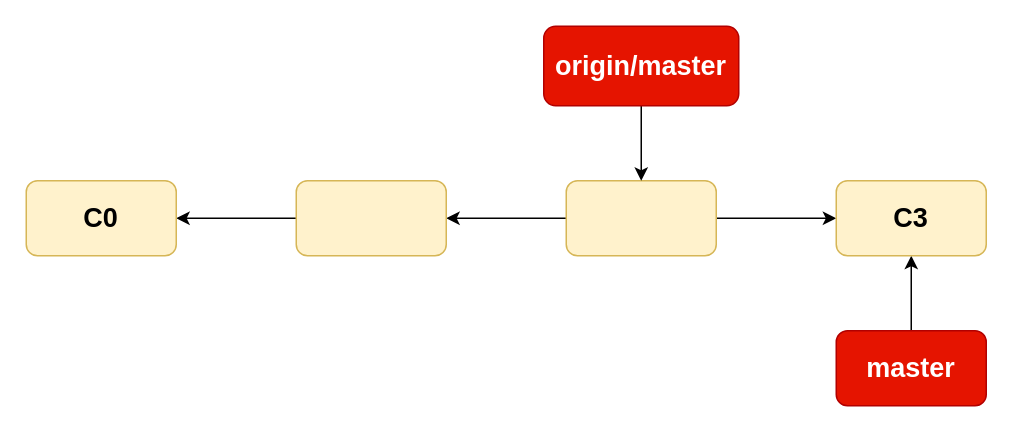
Some shapes in this 1013 by 432 pixel diagram are drawn without their labels. Here are the shapes that lost their labels. From the top down, the box of each, then its label:
(295, 179, 446, 256): C1
(565, 179, 716, 256): C2
